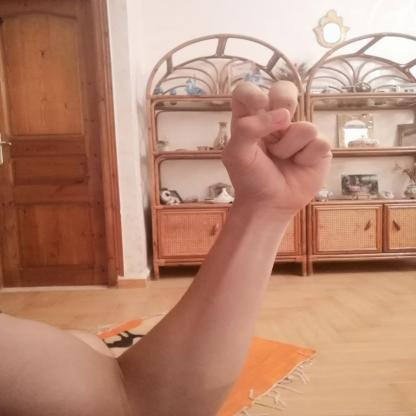QAAF: (209, 71, 346, 222)
